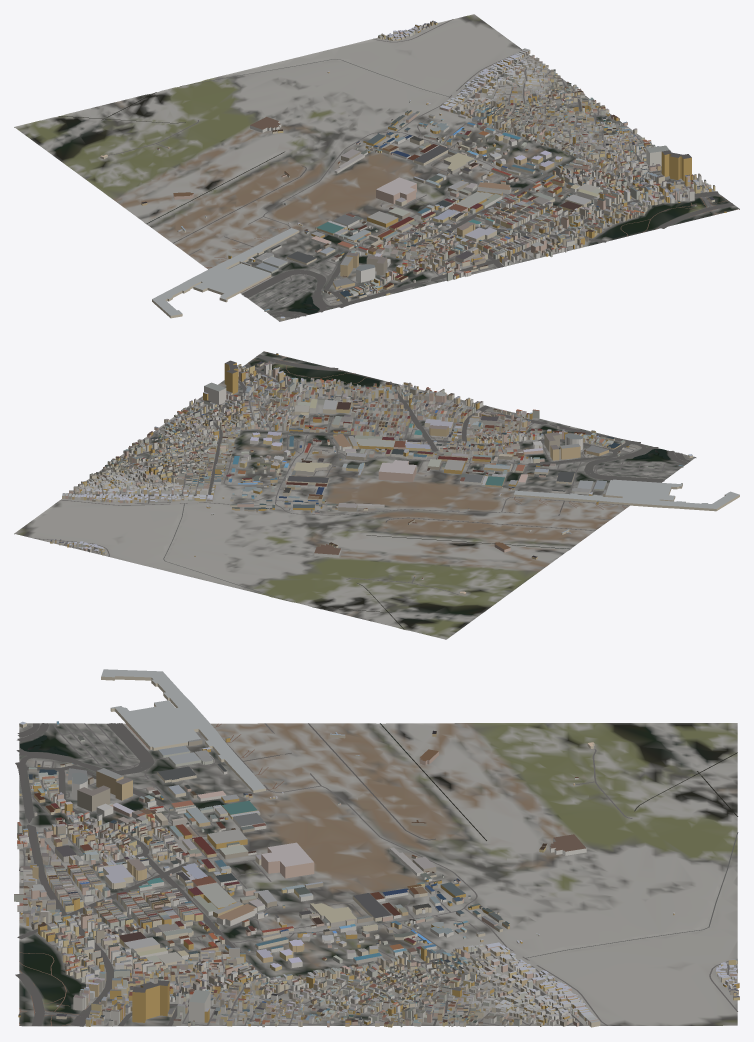
3 renders of one model, top to bottom at view 1: azimuth 30°, elevation 25°; view 2: azimuth 150°, elevation 25°; view 3: azimuth 270°, elevation 25°, orthographic. The views are drawn at different scales.
Parts seen in each view (by area): view 1: ground, buildings, roads, water; view 2: ground, buildings, roads, water; view 3: ground, buildings, roads, water.
Boxes of the visible parts, bbox=[...] form: ground: bbox=[14, 14, 739, 321]; buildings: bbox=[100, 20, 726, 320]; roads: bbox=[108, 19, 738, 321]; water: bbox=[59, 59, 449, 313]; ground: bbox=[14, 351, 696, 639]; buildings: bbox=[50, 353, 739, 595]; roads: bbox=[34, 351, 695, 594]; water: bbox=[163, 449, 670, 629]; ground: bbox=[19, 723, 737, 1026]; buildings: bbox=[14, 669, 739, 1027]; roads: bbox=[15, 723, 737, 1026]; water: bbox=[20, 723, 738, 958].
Bounding box in the file's own units: 1644 × 70.14 × 1415.
